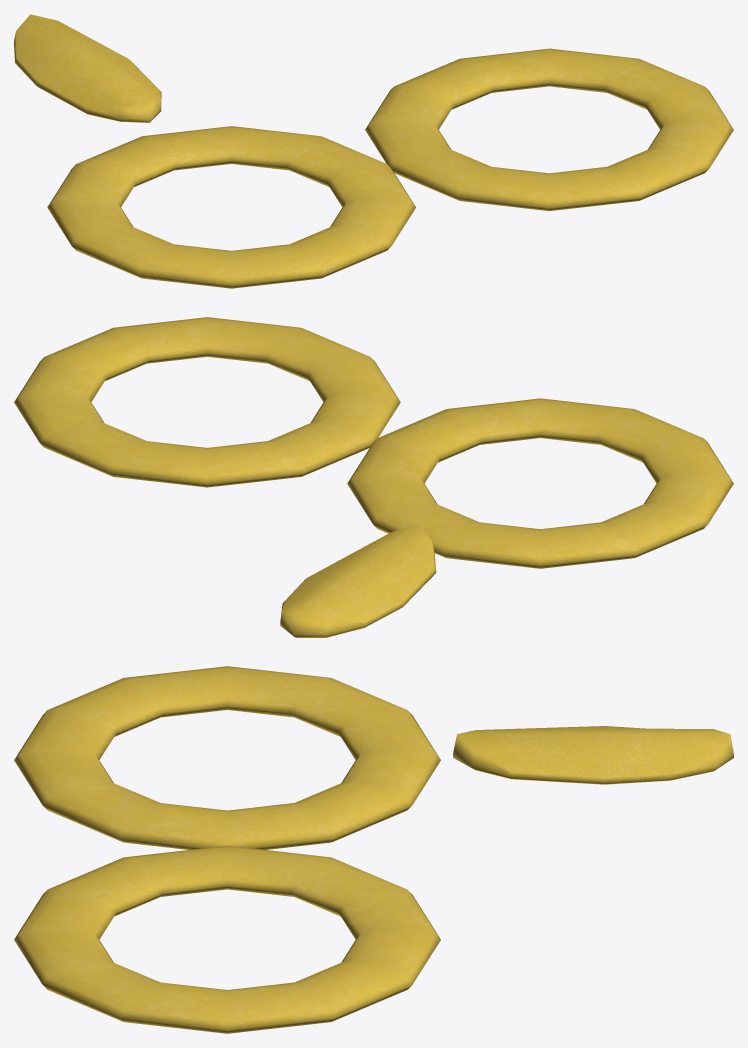
Rendered from gold.fbx.
3 renders of one model, top to bottom at view 1: azimuth 30°, elevation 25°; view 2: azimuth 150°, elevation 25°; view 3: azimuth 270°, elevation 25°, orthographic. The views are drawn at different scales.
Parts seen in each view (by area): view 1: gold1; view 2: gold1; view 3: gold1.
Part boxes in pixels (bbox=[...]): gold1: bbox=[14, 14, 733, 288]; gold1: bbox=[14, 317, 733, 637]; gold1: bbox=[14, 666, 733, 1033].
Size of the model in its own units: 59.83 by 3.68 by 50.57.
Materials: 1 (1 with a texture image).
